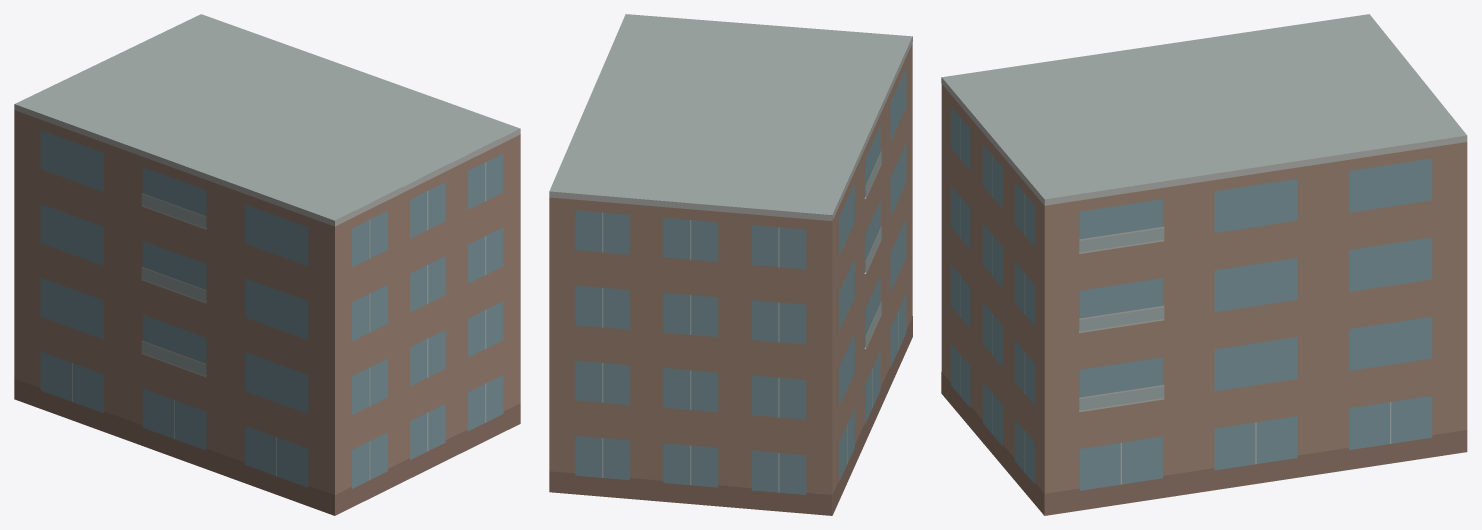
Rendered from survey-upis-33024201.glb.
The picture shows the model from 3 angles, left to right: view 1: azimuth 30°, elevation 25°; view 2: azimuth 150°, elevation 25°; view 3: azimuth 270°, elevation 25°; orthographic projection. The views are drawn at different scales.
Parts seen in each view (by area): view 1: survey-upis-33024201.tmp; view 2: survey-upis-33024201.tmp; view 3: survey-upis-33024201.tmp.
Part boxes in pixels (bbox=[...]): survey-upis-33024201.tmp: bbox=[14, 14, 520, 515]; survey-upis-33024201.tmp: bbox=[549, 14, 912, 515]; survey-upis-33024201.tmp: bbox=[941, 14, 1467, 515].
Bounding box in the file's own units: 15.34 × 12.2 × 18.38.
